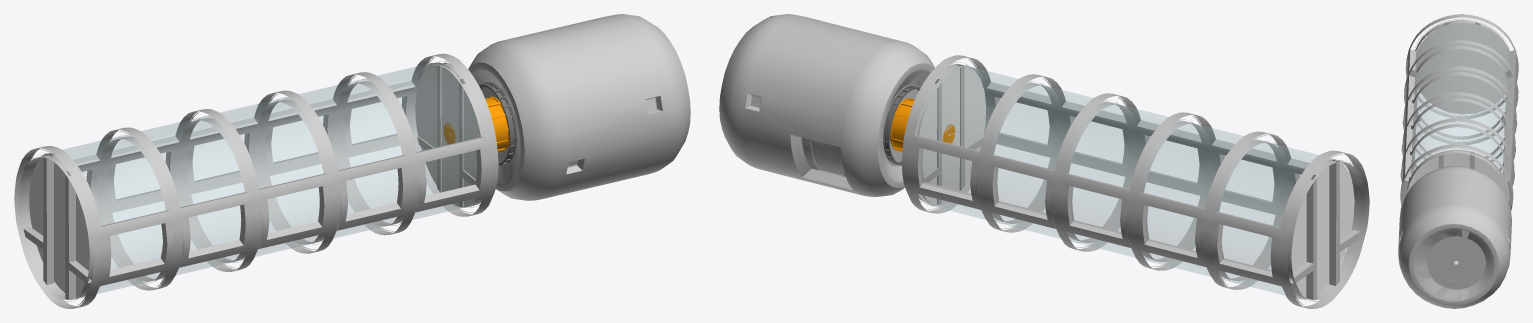
File: greenhouse.dae
3 renders of one model, left to right at view 1: azimuth 30°, elevation 25°; view 2: azimuth 150°, elevation 25°; view 3: azimuth 270°, elevation 25°, orthographic. The views are drawn at different scales.
Parts seen in each view (by area): view 1: skpS9tL1G (×10), SketchUp (×3); view 2: skpS9tL1G (×10), SketchUp (×3); view 3: skpS9tL1G (×16), SketchUp (×3).
Boxes of the visible parts, left/top/right/bottom form: skpS9tL1G (×10): left=14, top=14, right=690, bottom=308; SketchUp (×3): left=29, top=62, right=480, bottom=297; skpS9tL1G (×10): left=719, top=14, right=1369, bottom=308; SketchUp (×3): left=915, top=65, right=1354, bottom=299; skpS9tL1G (×16): left=1398, top=14, right=1518, bottom=308; SketchUp (×3): left=1408, top=22, right=1510, bottom=201.
Bounding box in the file's own units: 1657 × 422 × 396.
